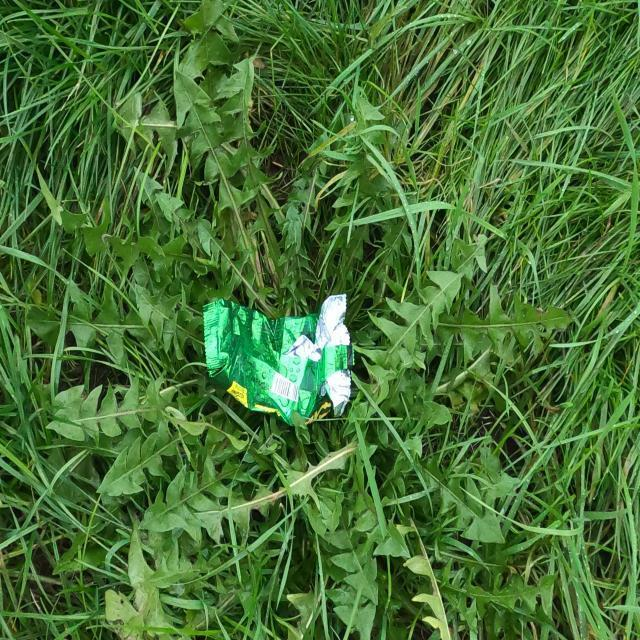Plastic: (202, 292, 356, 428)
